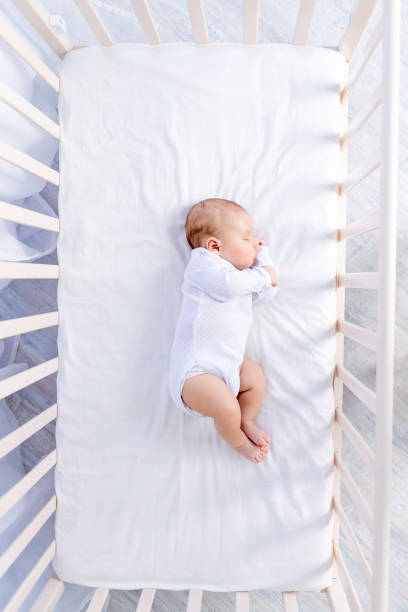baby: (169, 198, 278, 461)
crib: (325, 0, 398, 611)
